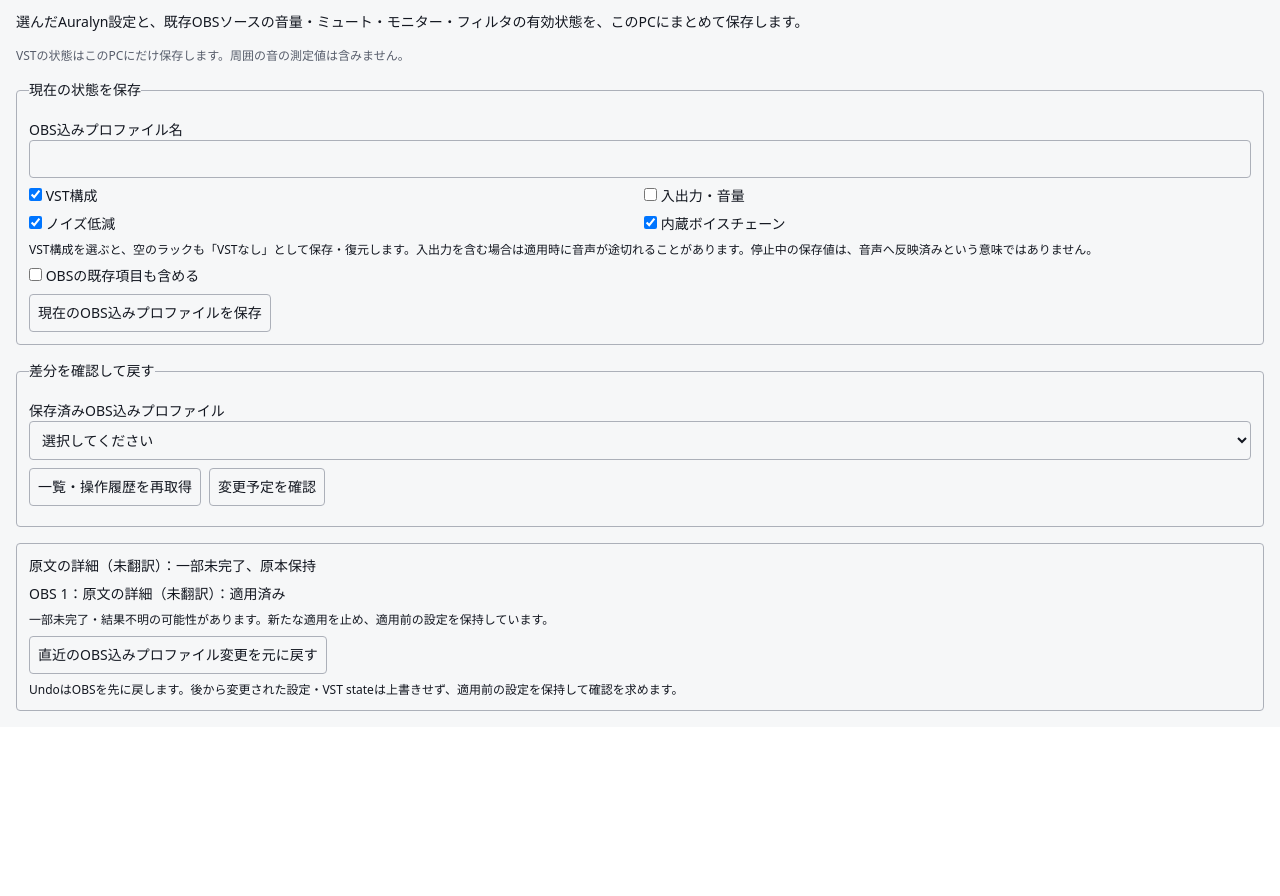
Test case: partial履歴は次applyを止め、競合Undoの拒否でも原本とUndo導線を保持する
Expected: the text "原文の詳細（未翻訳）：一部未完了、原本保持" is shown, [29, 556, 316, 575]
Select "歌枠" in the dropdown labelled "保存済みOBS込みプロファイル" at (640, 440), box [29, 421, 1251, 460]
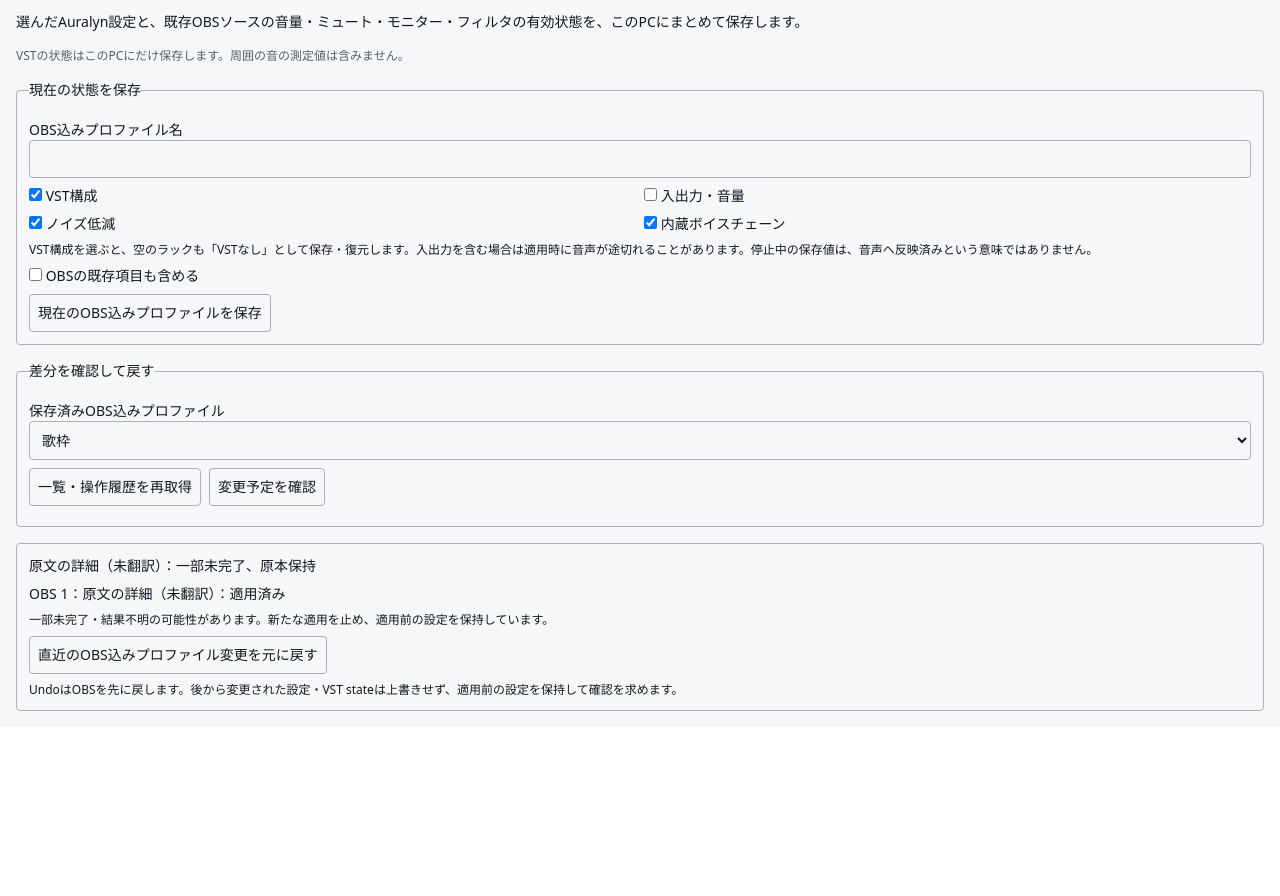
Click the button "変更予定を確認" at (267, 487), box [209, 468, 325, 506]
(page scrolled)
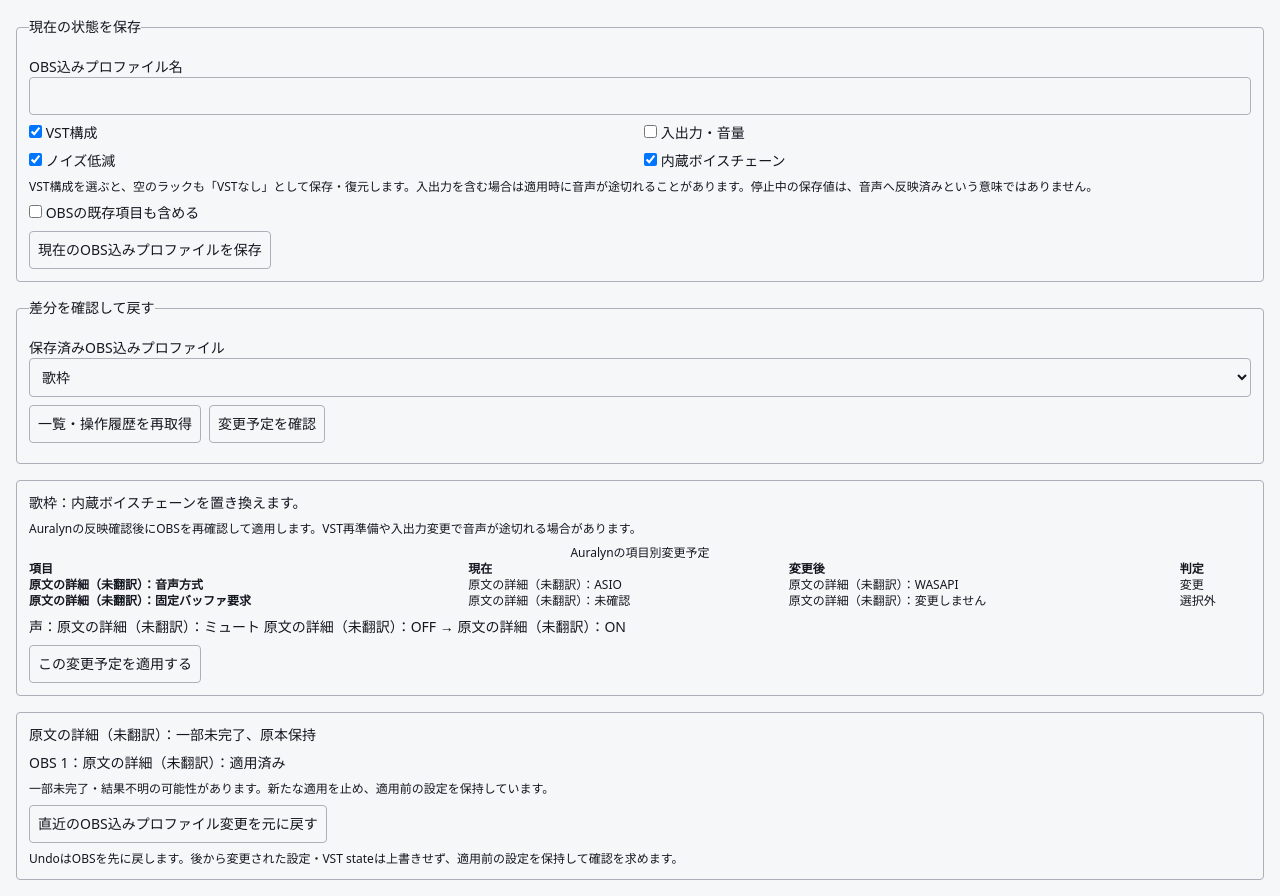
Expected: the button "この変更予定を適用する" is disabled, [29, 645, 201, 683]
Click the button "直近のOBS込みプロファイル変更を元に戻す" at (178, 824), box [29, 805, 327, 843]
(page scrolled)
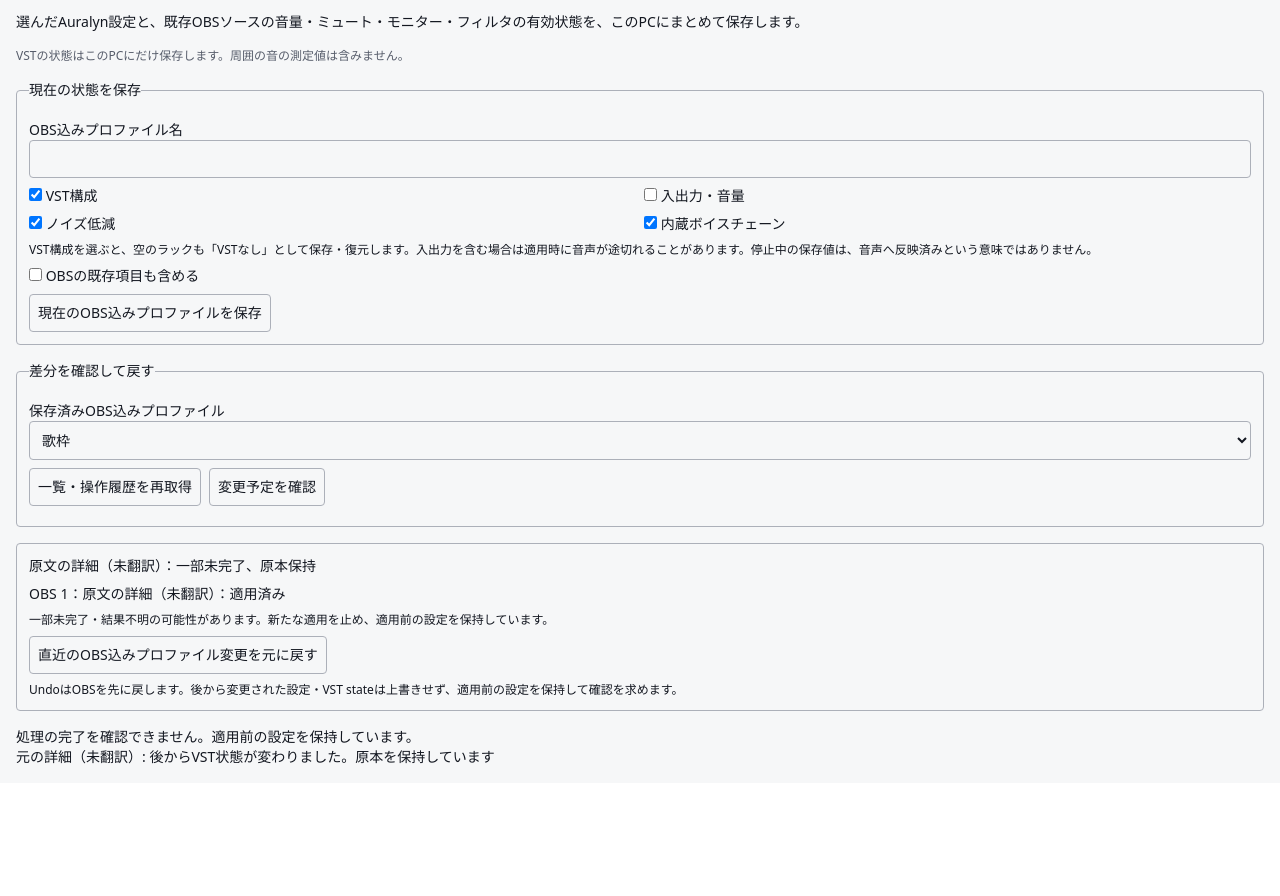
Expected: the text "原文の詳細（未翻訳）：一部未完了、原本保持" is shown, [29, 556, 316, 575]
Expected: the message shows "後からVST状態が変わりました", [149, 747, 495, 766]
